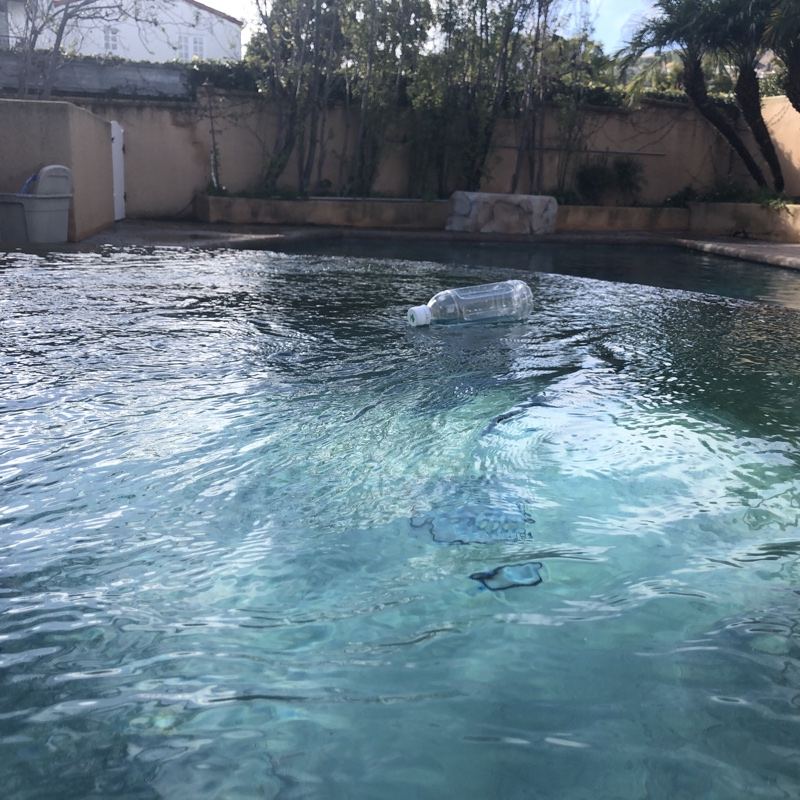Plastic Bottle: (406, 278, 536, 330)
